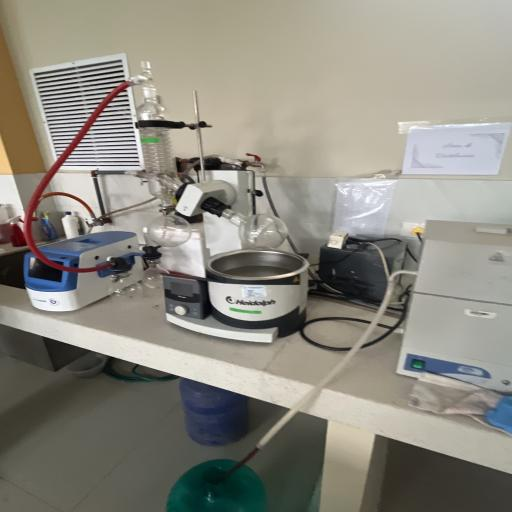Sistema_Rotaevaporacion: (18, 56, 322, 342)
